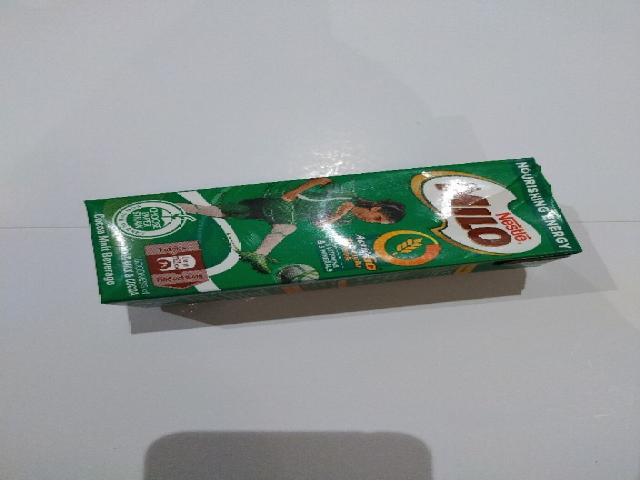drink_box: (85, 158, 582, 306)
